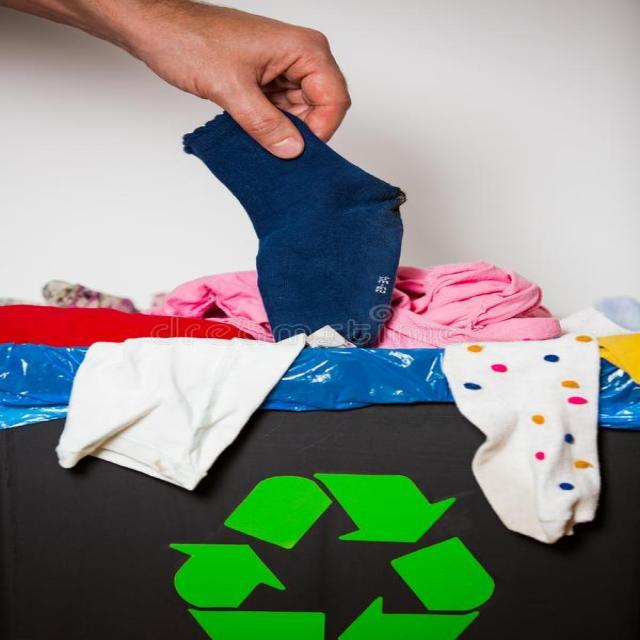clothes: (190, 157, 440, 360)
